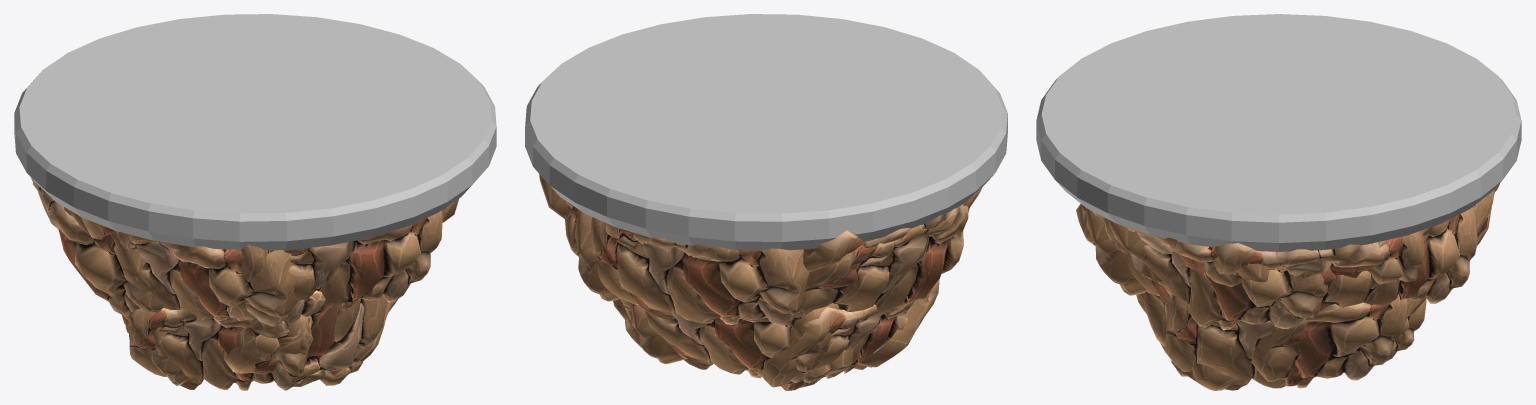
Rendered from egypt_environment_isle_hp.fbx.
3 views of the same model, side by side, from view 1: azimuth 30°, elevation 25°; view 2: azimuth 150°, elevation 25°; view 3: azimuth 270°, elevation 25° (orthographic).
Visible parts, largest first — view 1: Circle, egypt_isle_rocks_lp.007, egypt_isle_rocks_lp.001, egypt_isle_rocks_lp.013, egypt_isle_rocks_lp.008, egypt_isle_rocks_lp.006, egypt_isle_rocks_lp.012; view 2: Circle, egypt_isle_rocks_lp.005, egypt_isle_rocks_lp.006, egypt_isle_rocks_lp.010, egypt_isle_rocks_lp.012, egypt_isle_rocks_lp.019, egypt_isle_rocks_lp.004, egypt_isle_rocks_lp.013, egypt_isle_rocks_lp.011, egypt_isle_rocks_lp.018, egypt_isle_rocks_lp.022, egypt_isle_rocks_lp.016; view 3: Circle, egypt_isle_rocks_lp.009, egypt_isle_rocks_lp.003, egypt_isle_rocks_lp.004, egypt_isle_rocks_lp.016, egypt_isle_rocks_lp.011, egypt_isle_rocks_lp.015, egypt_isle_rocks_lp.001, egypt_isle_rocks_lp.008, egypt_isle_rocks_lp.014, egypt_isle_rocks_lp.005.
Boxes of the visible parts, left/top/right/bottom form: Circle: left=14, top=14, right=496, bottom=250; egypt_isle_rocks_lp.007: left=109, top=232, right=298, bottom=326; egypt_isle_rocks_lp.001: left=228, top=210, right=442, bottom=320; egypt_isle_rocks_lp.013: left=128, top=308, right=313, bottom=390; egypt_isle_rocks_lp.008: left=224, top=290, right=387, bottom=386; egypt_isle_rocks_lp.006: left=31, top=178, right=163, bottom=315; egypt_isle_rocks_lp.012: left=122, top=315, right=189, bottom=385; Circle: left=525, top=14, right=1007, bottom=250; egypt_isle_rocks_lp.005: left=591, top=217, right=809, bottom=325; egypt_isle_rocks_lp.006: left=795, top=204, right=969, bottom=317; egypt_isle_rocks_lp.010: left=620, top=298, right=839, bottom=383; egypt_isle_rocks_lp.012: left=762, top=300, right=914, bottom=390; egypt_isle_rocks_lp.019: left=803, top=193, right=975, bottom=271; egypt_isle_rocks_lp.004: left=565, top=201, right=620, bottom=301; egypt_isle_rocks_lp.013: left=854, top=279, right=939, bottom=369; egypt_isle_rocks_lp.011: left=630, top=305, right=687, bottom=364; egypt_isle_rocks_lp.018: left=606, top=223, right=718, bottom=260; egypt_isle_rocks_lp.022: left=754, top=347, right=861, bottom=387; egypt_isle_rocks_lp.016: left=539, top=174, right=568, bottom=221; Circle: left=1036, top=14, right=1521, bottom=251; egypt_isle_rocks_lp.009: left=1164, top=294, right=1408, bottom=390; egypt_isle_rocks_lp.003: left=1103, top=217, right=1327, bottom=329; egypt_isle_rocks_lp.004: left=1275, top=207, right=1477, bottom=310; egypt_isle_rocks_lp.016: left=1213, top=230, right=1423, bottom=284; egypt_isle_rocks_lp.011: left=1251, top=299, right=1426, bottom=386; egypt_isle_rocks_lp.015: left=1093, top=212, right=1269, bottom=286; egypt_isle_rocks_lp.001: left=1076, top=203, right=1146, bottom=295; egypt_isle_rocks_lp.008: left=1141, top=291, right=1234, bottom=390; egypt_isle_rocks_lp.014: left=1107, top=219, right=1163, bottom=283; egypt_isle_rocks_lp.005: left=1473, top=190, right=1494, bottom=245.
Size of the model in its own units: 889 by 516 by 889.
